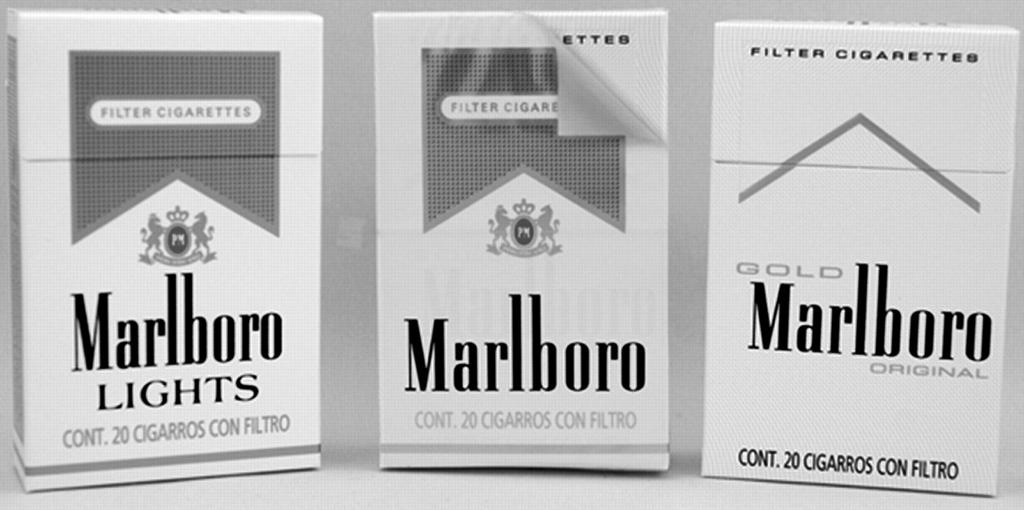marlboro_gold: (700, 42, 1005, 470)
